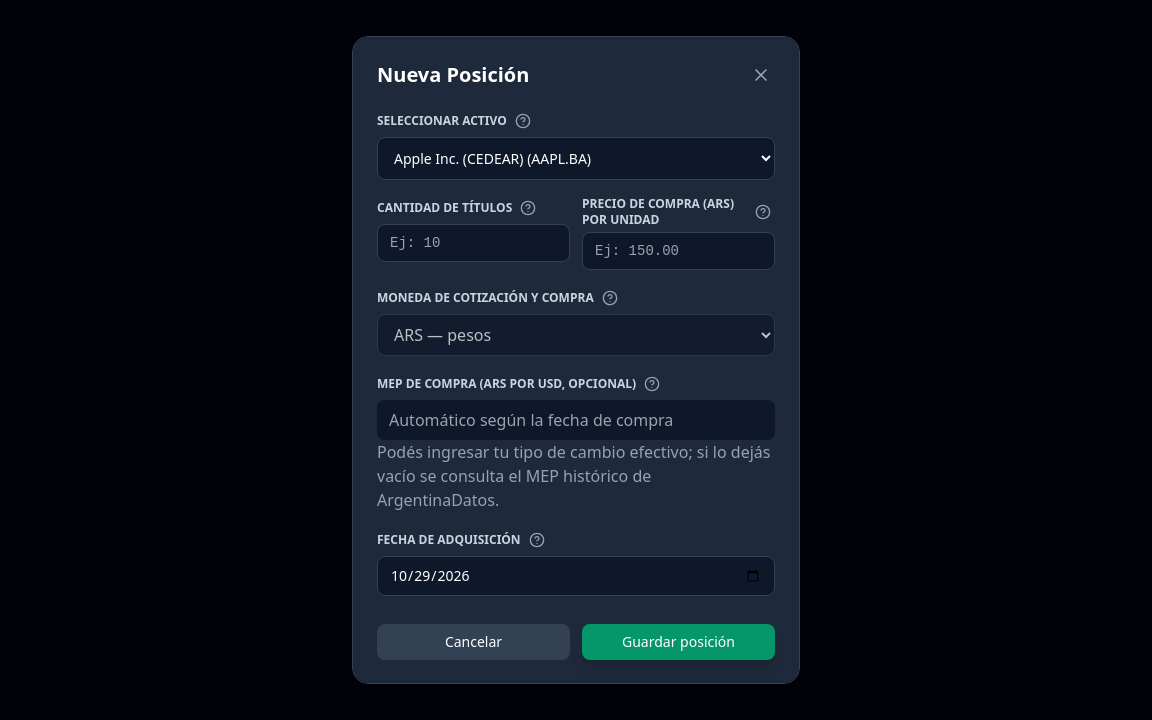
gives every new-position field help and switches to nominal-value explanations for bonds
expect the number field labelled "Cantidad de títulos" is shown: met, box [377,224,570,262]
expect the number field labelled "Precio de compra (ARS) por unidad" is shown: met, box [582,232,775,270]
Select "Bono Bonar 2030 (AL30 USD) (AL30D.BA)" in the dropdown labelled "Seleccionar Activo" at [576, 158], box [377,137,775,180]
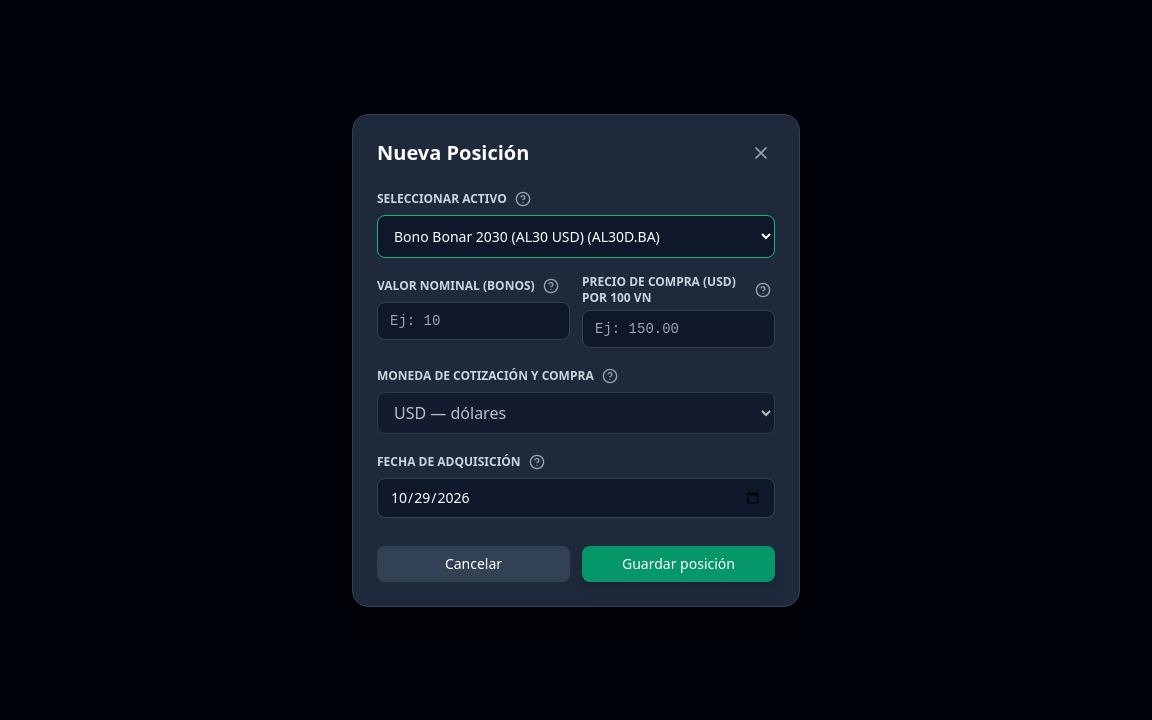
Click the button named "Ayuda: Valor nominal (bonos)".
click(551, 286)  # box [539,274,563,298]
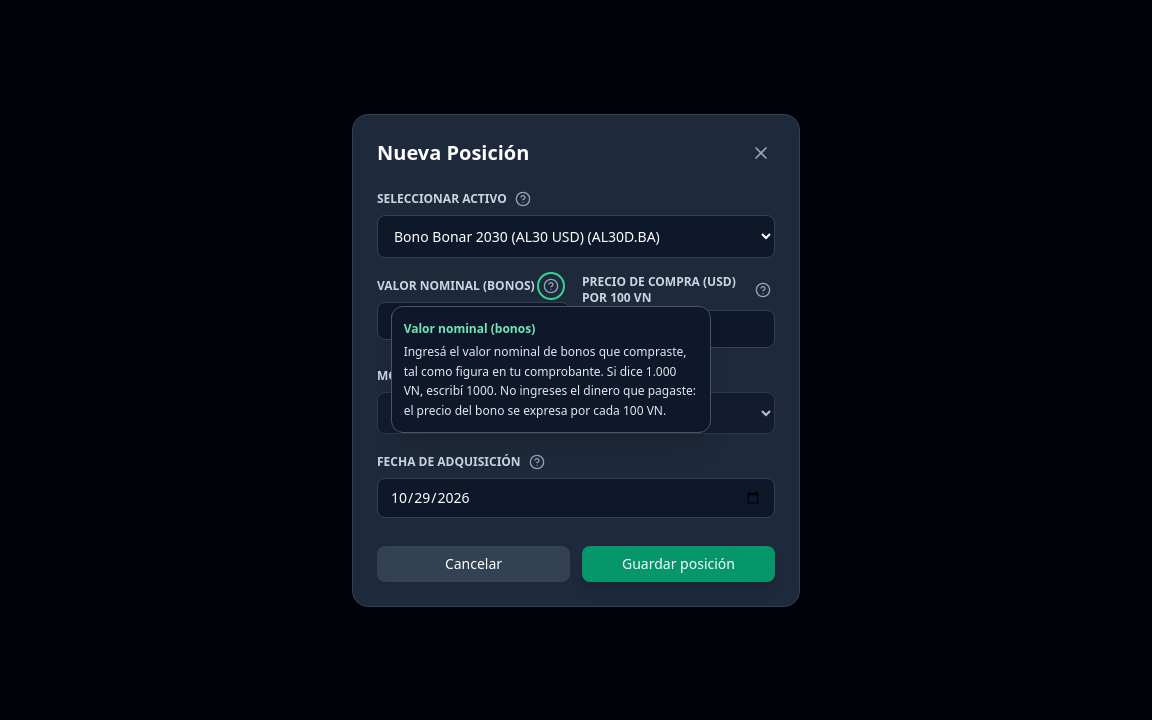
expect the tooltip shows "1.000 VN": met, box [404,343,696,418]
